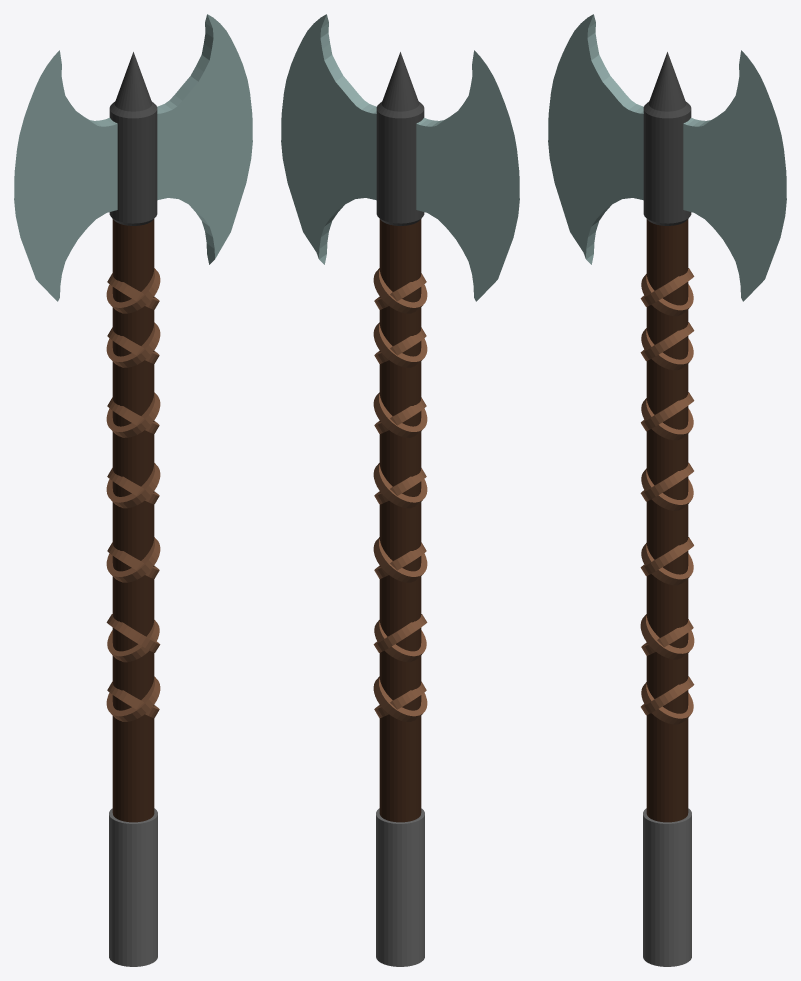
Rendered from SP_Iron BattleAxe.fbx.
3 renders of one model, left to right at view 1: azimuth 30°, elevation 25°; view 2: azimuth 150°, elevation 25°; view 3: azimuth 330°, elevation 25°, orthographic.
Parts seen in each view (by area): view 1: Pommel; view 2: Pommel; view 3: Pommel.
Boxes of the visible parts, x1,y1,x2,y2 form: Pommel: (14,14,252,966); Pommel: (281,14,519,966); Pommel: (548,14,786,966).
Bounding box in the file's own units: 172 × 635 × 35.76.
